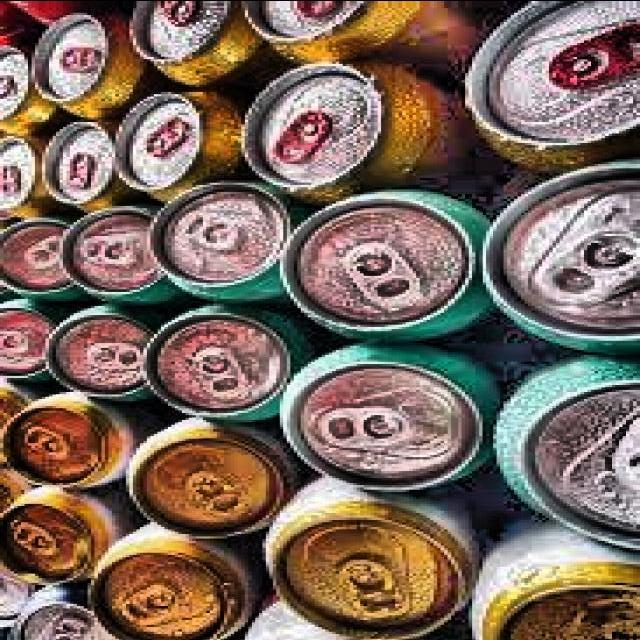litter: (250, 475, 476, 640), (276, 184, 494, 346), (473, 157, 640, 362), (276, 340, 489, 496), (237, 56, 470, 198), (481, 346, 640, 552), (458, 0, 640, 175), (82, 524, 278, 640), (468, 517, 640, 640), (120, 419, 289, 542), (134, 302, 298, 422), (142, 177, 293, 305), (111, 87, 242, 209), (235, 0, 464, 69), (0, 388, 130, 493), (26, 5, 140, 120), (0, 488, 126, 586), (59, 202, 179, 300), (122, 0, 255, 86), (48, 305, 166, 400), (42, 116, 120, 208), (0, 212, 74, 297), (0, 28, 49, 134), (0, 299, 60, 382), (0, 132, 57, 217)
